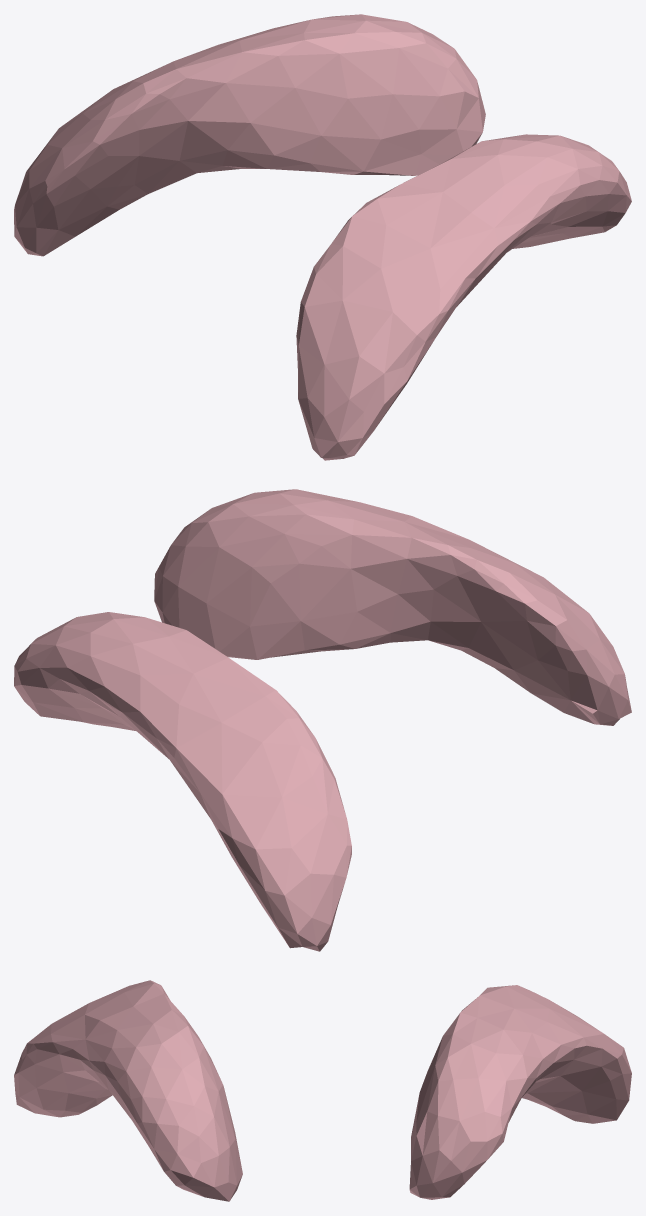
The picture shows the model from 3 angles, top to bottom: view 1: azimuth 30°, elevation 25°; view 2: azimuth 150°, elevation 25°; view 3: azimuth 270°, elevation 25°; orthographic projection. The views are drawn at different scales.
Parts seen in each view (by area): view 1: 1077.obj; view 2: 1077.obj; view 3: 1077.obj.
Part boxes in pixels (box(x1,y1,x2,y2)): 1077.obj: box(14, 14, 631, 460); 1077.obj: box(14, 489, 631, 951); 1077.obj: box(14, 980, 631, 1201).
Bounding box in the file's own units: 987 × 525 × 1461.
